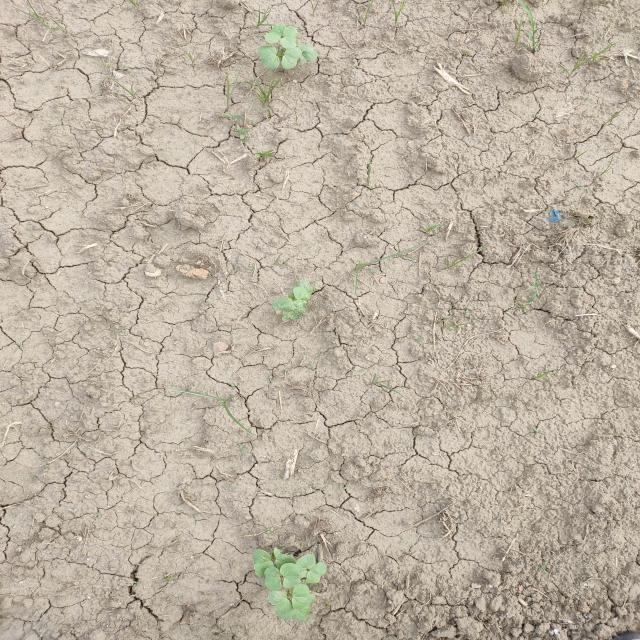seedling_s2: (267, 590, 294, 619), (292, 593, 316, 620), (252, 549, 274, 578), (273, 547, 296, 570), (280, 563, 300, 589), (273, 297, 307, 312), (258, 46, 280, 69), (296, 554, 316, 579), (281, 47, 302, 70), (306, 562, 327, 584), (292, 583, 309, 609), (264, 566, 282, 590), (280, 26, 298, 49), (265, 24, 285, 44), (296, 280, 313, 299), (298, 50, 317, 64), (293, 287, 308, 303), (296, 43, 314, 51), (282, 311, 291, 322), (291, 312, 301, 320)
